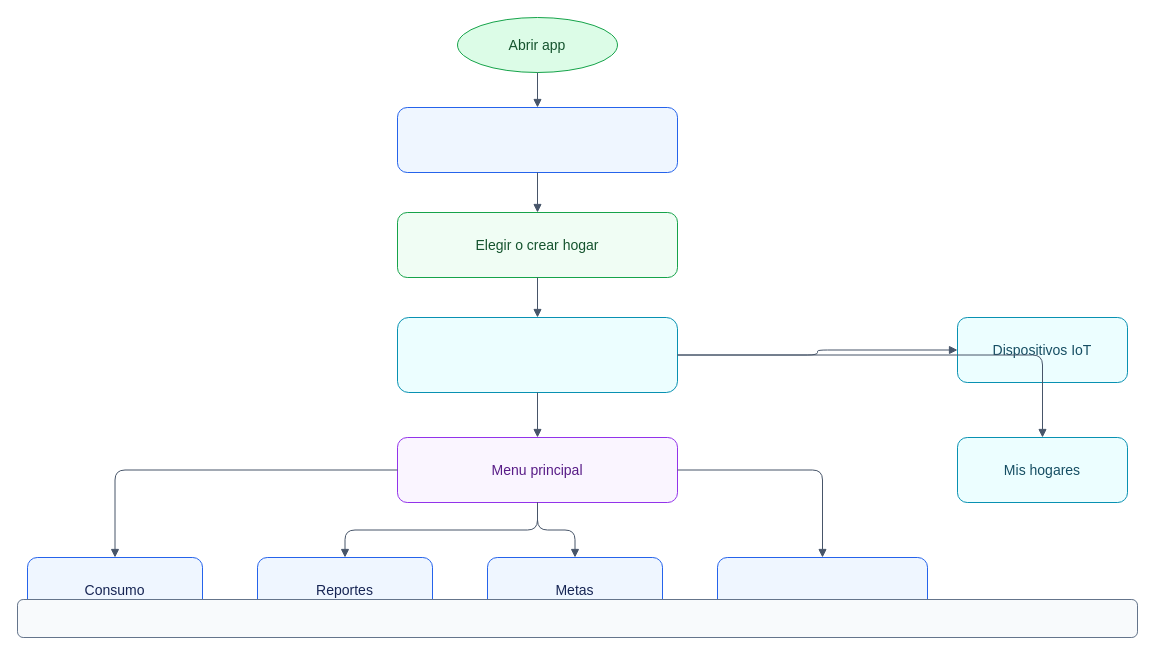
The diagram is 1155 pixels wide and 655 high, and some of its shapes have lost their labels. The centre of each missing label's shape, as x and y in pixels:
"Configuracion + soporte" belongs at pixel 822 589.
"Inicio: consumo de hoy, grafica semanal, IoT" belongs at pixel 537 354.
"Login / registro" belongs at pixel 537 139.
"Resumen funcional, no wireframe exacto. BLE depende de cliente compatible." belongs at pixel 577 618.
